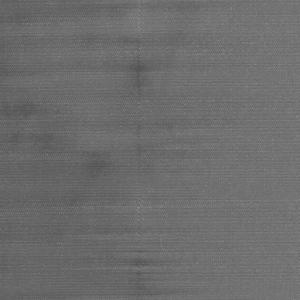Stain: (1, 65, 117, 248), (130, 47, 153, 181), (130, 253, 149, 300)
